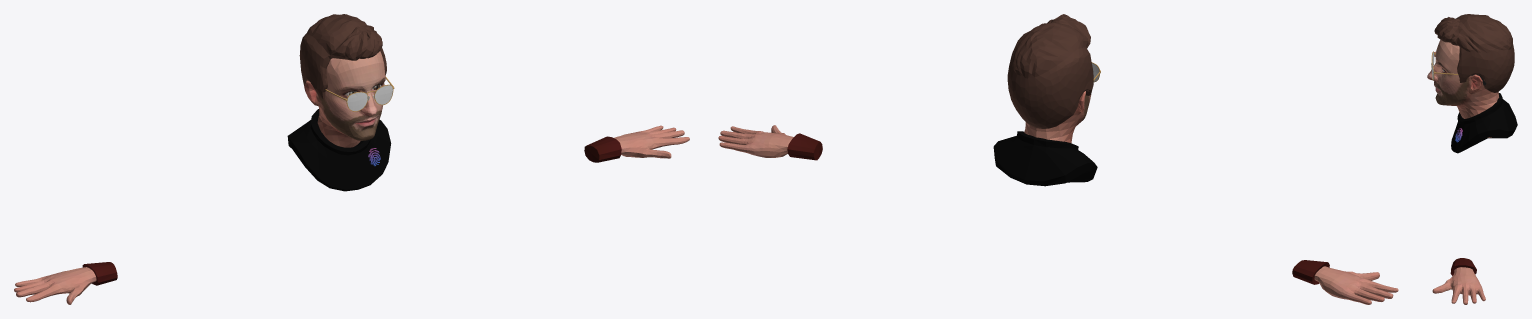
3 renders of one model, left to right at view 1: azimuth 30°, elevation 25°; view 2: azimuth 150°, elevation 25°; view 3: azimuth 270°, elevation 25°, orthographic. The views are drawn at different scales.
Size of the model in its own units: 1.67 by 0.4762 by 0.242.
Materials: 42 (42 with a texture image).
